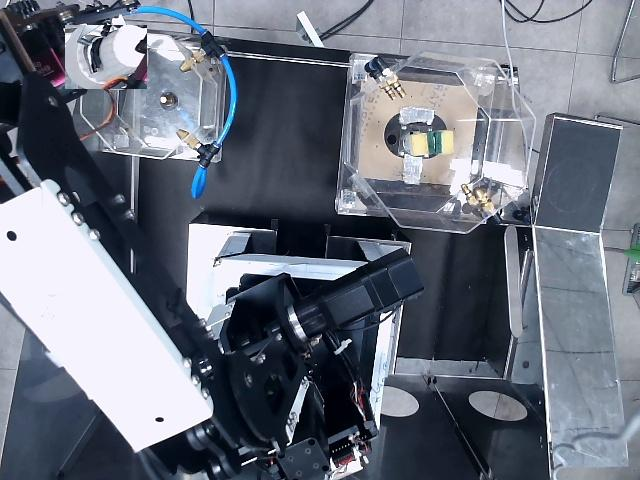cup: (65, 25, 147, 89)
